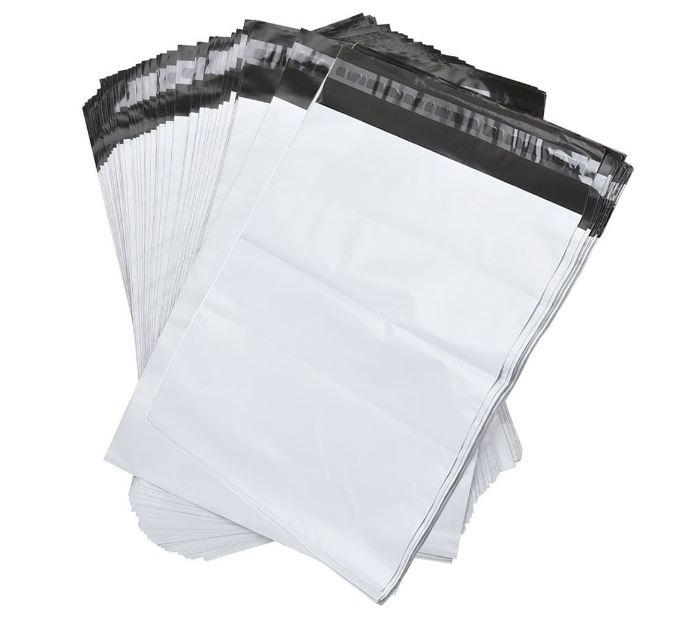塑料袋: (83, 15, 632, 602)
